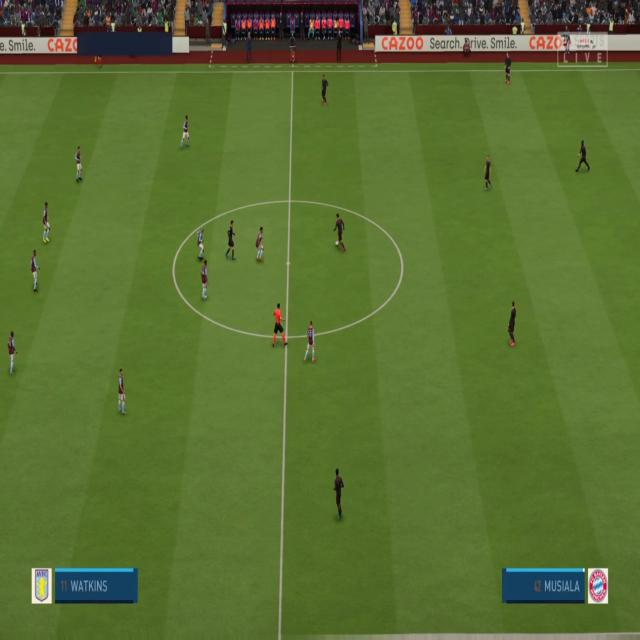Ball: (335, 241, 339, 246)
Referee: (272, 303, 288, 347)
Team-A: (334, 468, 344, 521), (333, 214, 346, 252), (576, 140, 590, 173), (507, 301, 517, 347), (225, 220, 236, 261), (483, 155, 492, 190), (504, 52, 511, 85), (321, 74, 328, 106)
Team-H: (304, 321, 316, 363), (7, 331, 18, 375), (30, 250, 40, 293), (118, 368, 126, 417), (42, 202, 51, 244), (200, 260, 209, 302), (180, 115, 190, 151), (74, 145, 83, 183), (255, 226, 264, 262), (197, 228, 204, 262)
